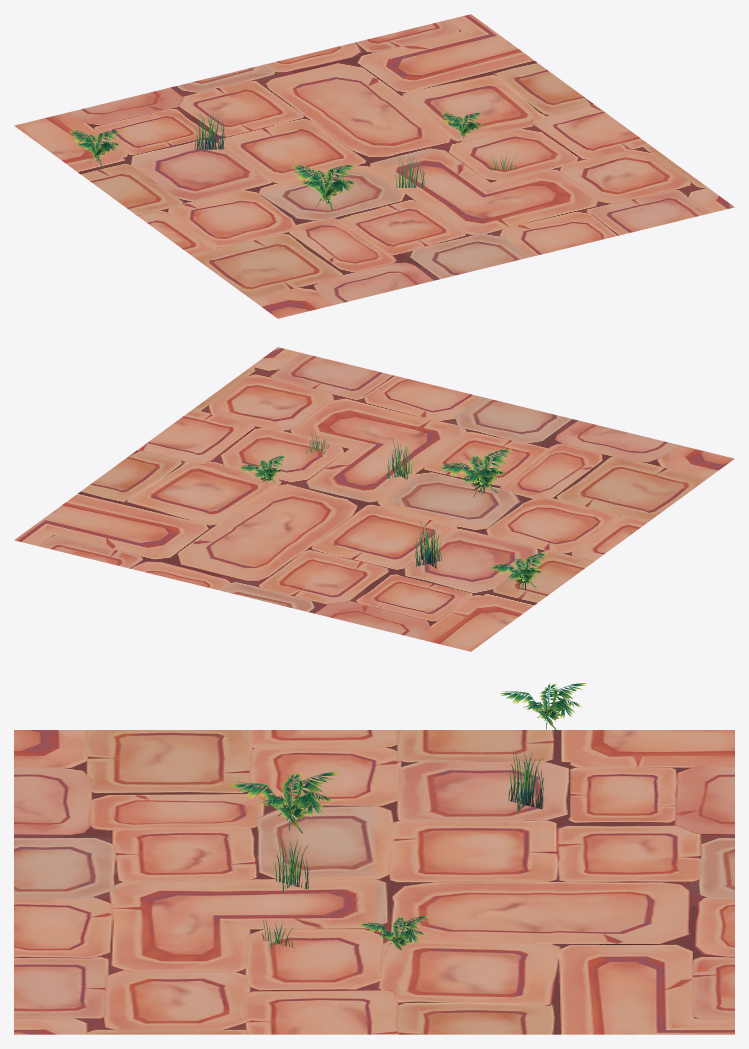
The model's file is SM_FloorType1.fbx.
3 views of the same model, one above another, from view 1: azimuth 30°, elevation 25°; view 2: azimuth 150°, elevation 25°; view 3: azimuth 270°, elevation 25° (orthographic). The views are drawn at different scales.
Visible parts, largest first — view 1: SimpleFloorType1; view 2: SimpleFloorType1; view 3: SimpleFloorType1.
Part boxes in pixels (box(x1,y1,x2,y2)): SimpleFloorType1: box(14, 14, 734, 318); SimpleFloorType1: box(14, 347, 734, 651); SimpleFloorType1: box(14, 683, 734, 1034).
Size of the model in its own units: 207 by 28.79 by 200.
